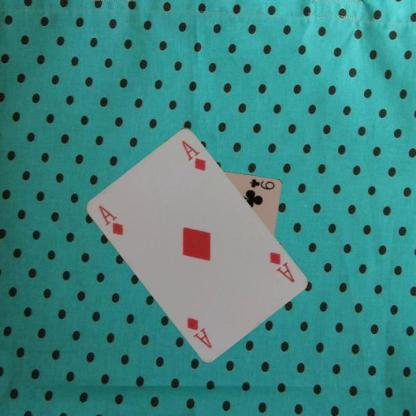9c: (246, 176, 276, 191)
Ad: (266, 248, 296, 284), (96, 202, 124, 237)
